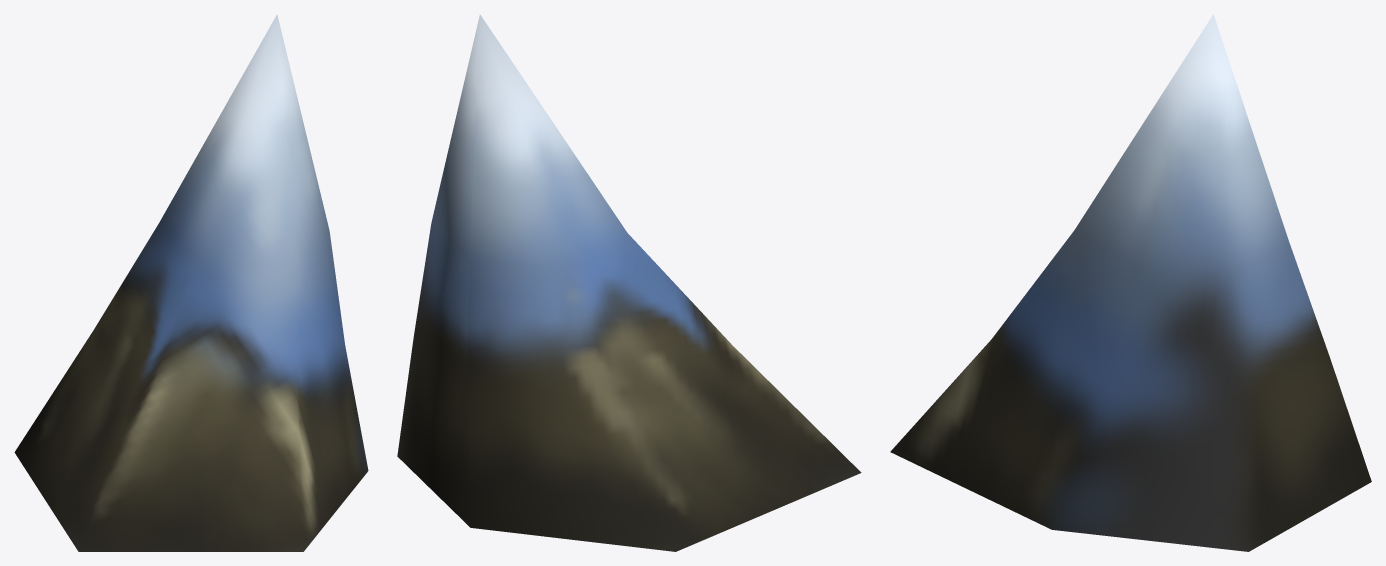
The model's file is BingZui04.FBX.
The picture shows the model from 3 angles, left to right: view 1: azimuth 30°, elevation 25°; view 2: azimuth 150°, elevation 25°; view 3: azimuth 270°, elevation 25°; orthographic projection. The views are drawn at different scales.
Parts seen in each view (by area): view 1: BingZui04; view 2: BingZui04; view 3: BingZui04.
Boxes of the visible parts, <box> form: BingZui04: <box>14,14,368,551</box>; BingZui04: <box>397,14,861,551</box>; BingZui04: <box>890,14,1371,551</box>.
Size of the model in its own units: 37.32 by 43.7 by 38.05.
